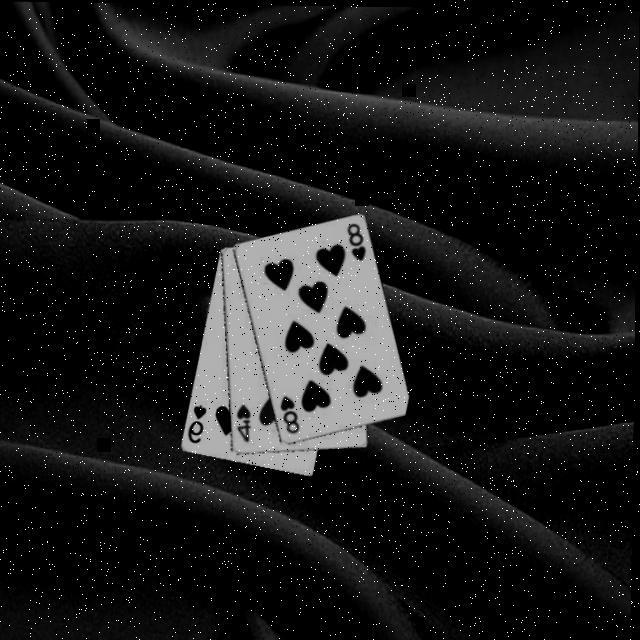4H: (235, 399, 256, 442)
6S: (186, 399, 211, 444)
8H: (278, 391, 304, 434), (346, 218, 372, 260)
